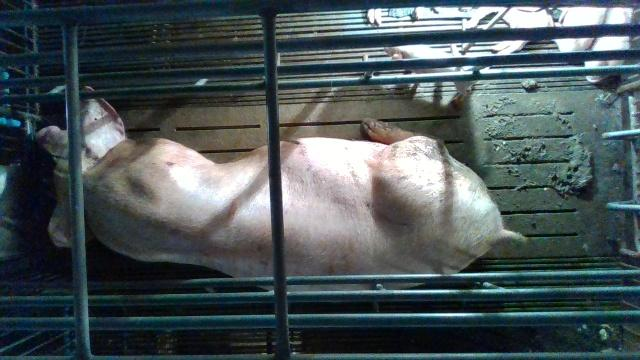piglet: (465, 6, 554, 56), (584, 7, 631, 83), (555, 7, 609, 51), (385, 46, 464, 75)
sow-sit: (37, 85, 534, 288)
